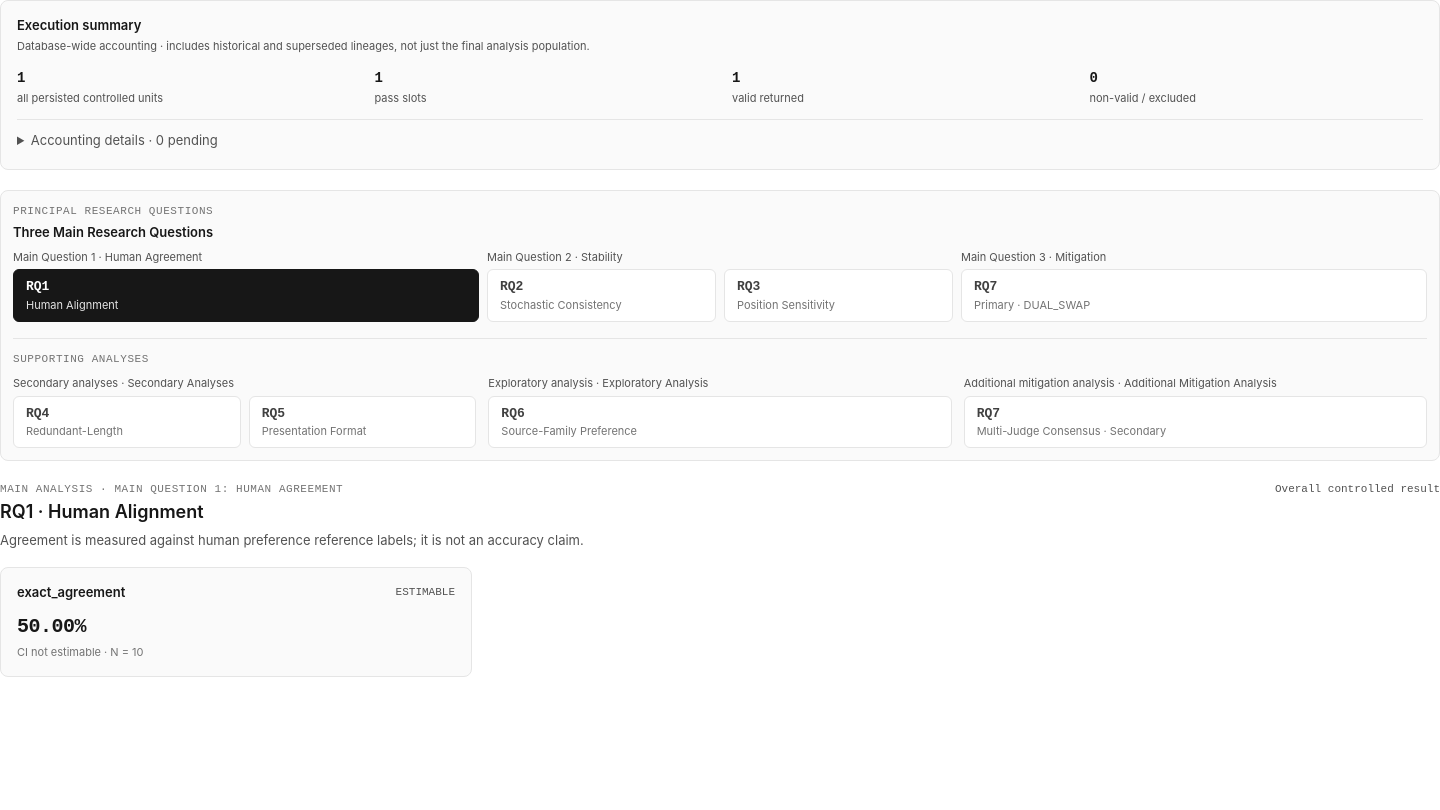
Test: controlled evidence separation › uses local RQ navigation without replacing the overall controlled result
Expected: the heading "RQ1 · Human Alignment" is shown, [0,501,204,522]
Click the button "RQ6 Source-Family Preference".
click(569, 431)  # box [488,396,952,448]
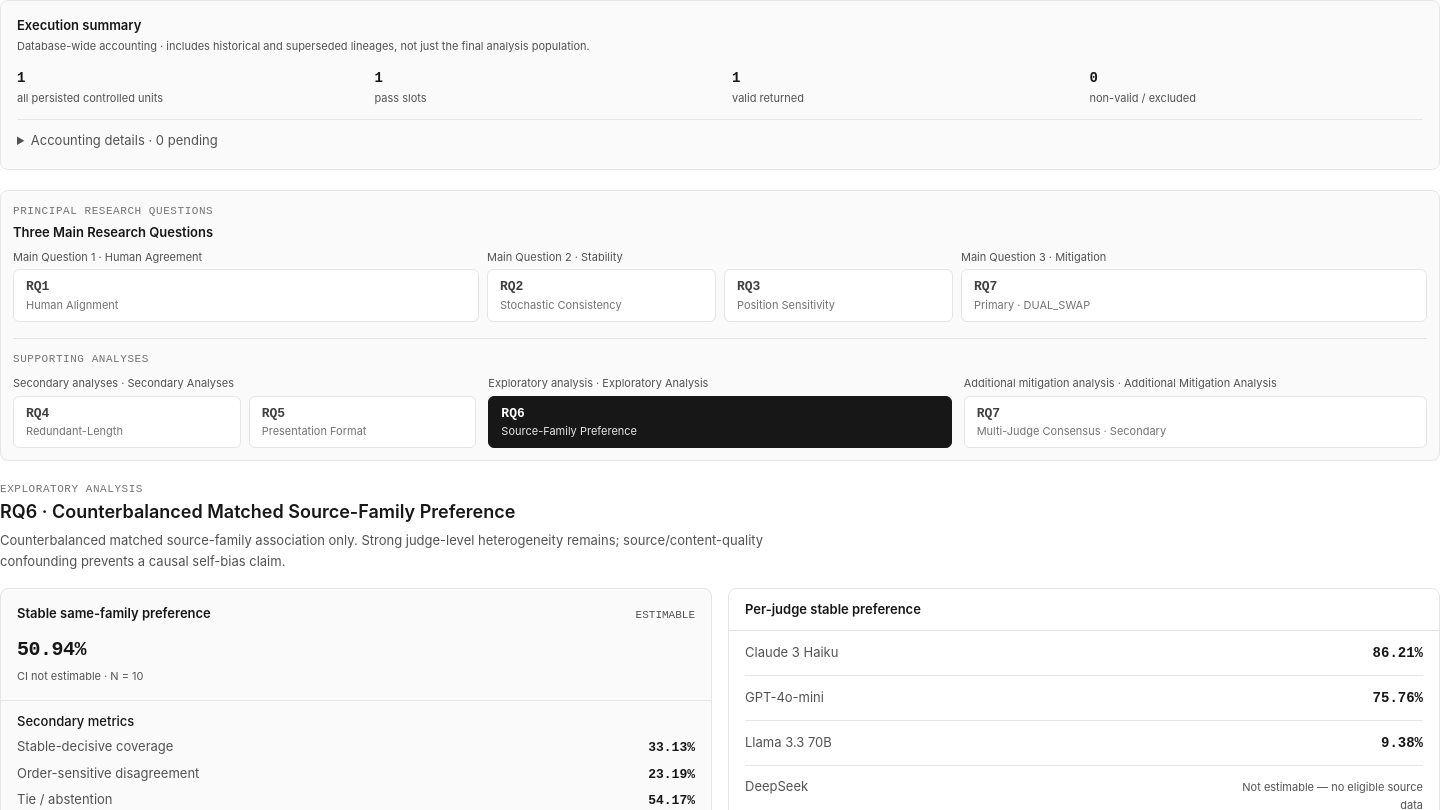
Expected: the heading "Stable same-family preference" is shown, [17,605,211,622]
Click the button "RQ7 Primary · DUAL_SWAP".
click(1032, 305)  # box [961,269,1427,322]
(page scrolled)
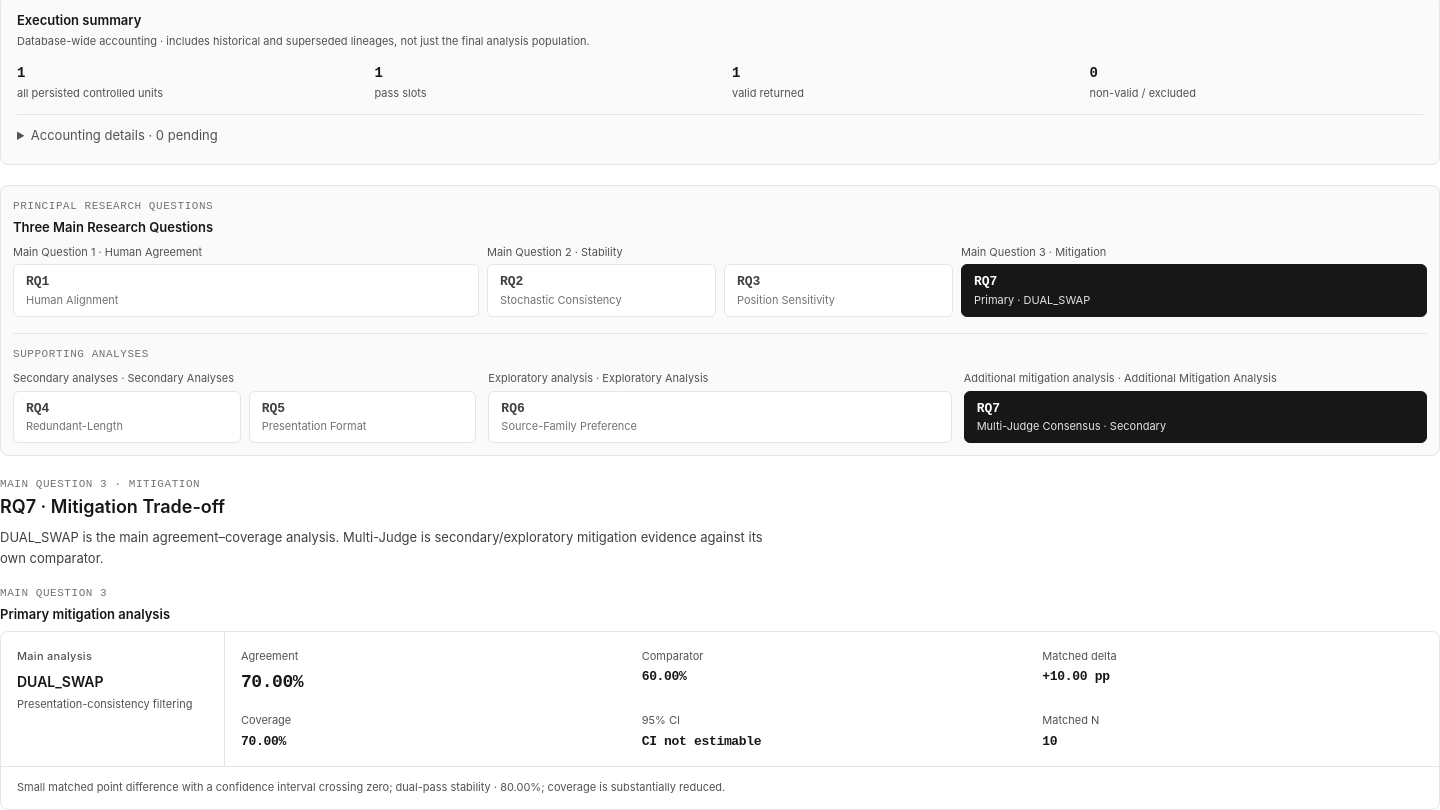
Expected: the text "dual-pass stability" is shown, [17,780,500,794]
